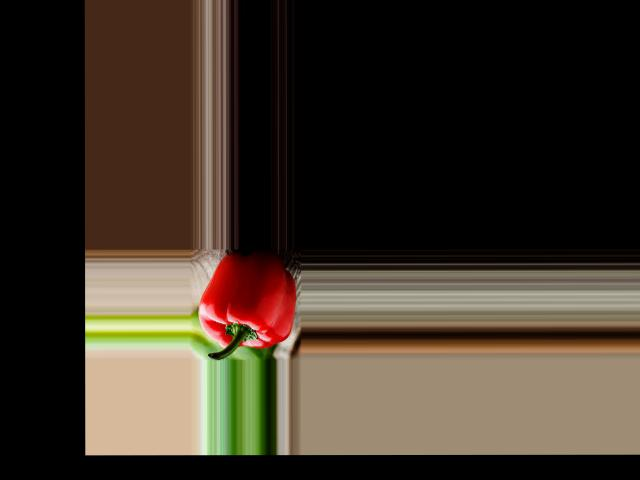bell_pepper: (196, 247, 294, 357)
